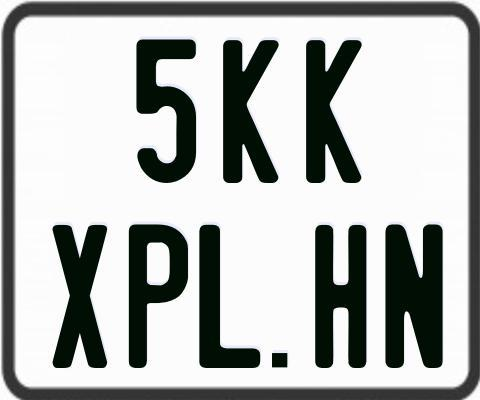5: (133, 37, 195, 185)
H: (315, 223, 371, 371)
K: (306, 38, 368, 185), (223, 37, 279, 185)
L: (199, 224, 263, 373)
N: (383, 224, 441, 371)
P: (129, 221, 194, 365)
X: (51, 222, 110, 371)
